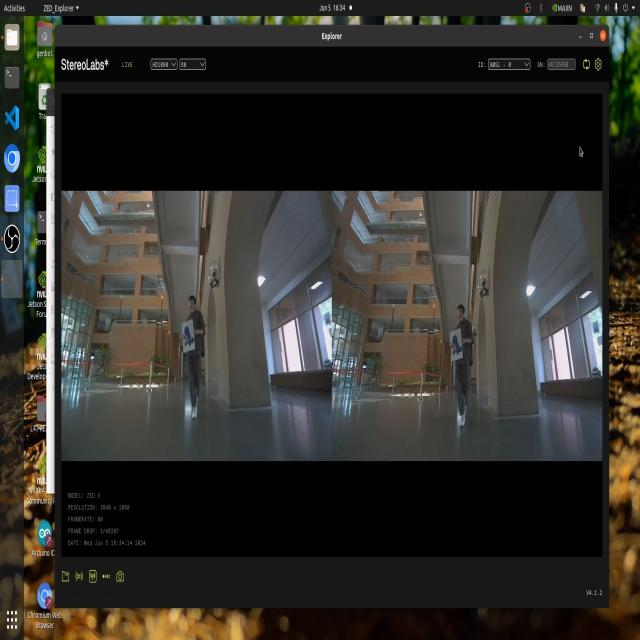blue: (182, 319, 193, 350), (453, 331, 463, 355)
